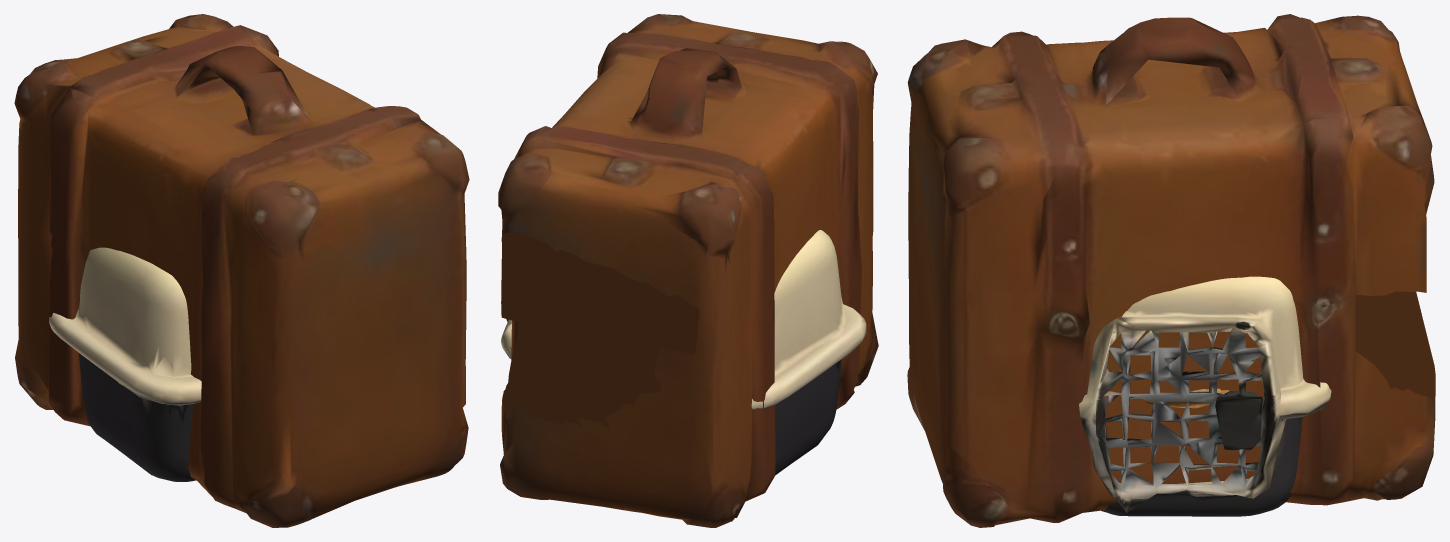
The model's file is marche.glb.
3 views of the same model, side by side, from view 1: azimuth 30°, elevation 25°; view 2: azimuth 150°, elevation 25°; view 3: azimuth 270°, elevation 25° (orthographic). The views are drawn at different scales.
Visible parts, largest first — view 1: valise, caisse-transport; view 2: valise, caisse-transport; view 3: valise, caisse-transport.
Part boxes in pixels (left/top/right/bottom): valise: left=14, top=14, right=469, bottom=527; caisse-transport: left=49, top=247, right=201, bottom=481; valise: left=498, top=14, right=878, bottom=527; caisse-transport: left=501, top=230, right=866, bottom=474; valise: left=907, top=14, right=1435, bottom=527; caisse-transport: left=1079, top=276, right=1331, bottom=516.
Bounding box in the file's own units: 0.5 × 0.6394 × 0.7.
Materials: 6 (6 with a texture image).
